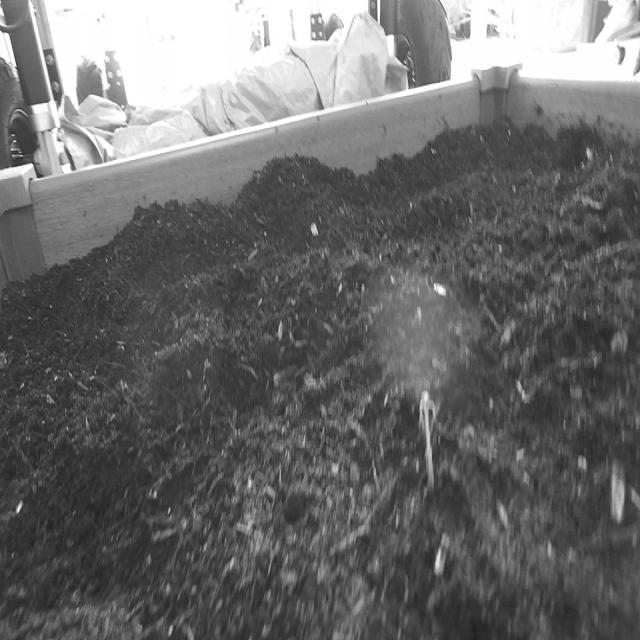Unhealthy: (415, 384, 443, 499)
